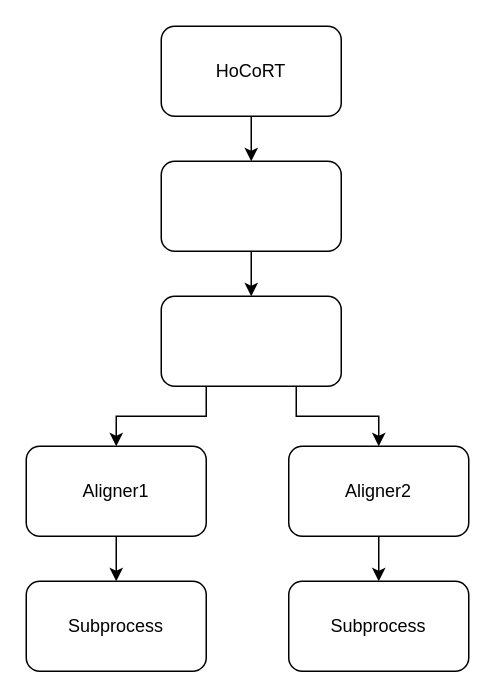
The diagram is 495 pixels wide and 698 high, and some of its shapes have lost their labels. The centre of each missing label's shape, as x and y in pixels:
"HoCoRT interface" goes at (x=250, y=205).
"Pipeline" goes at (x=250, y=340).
